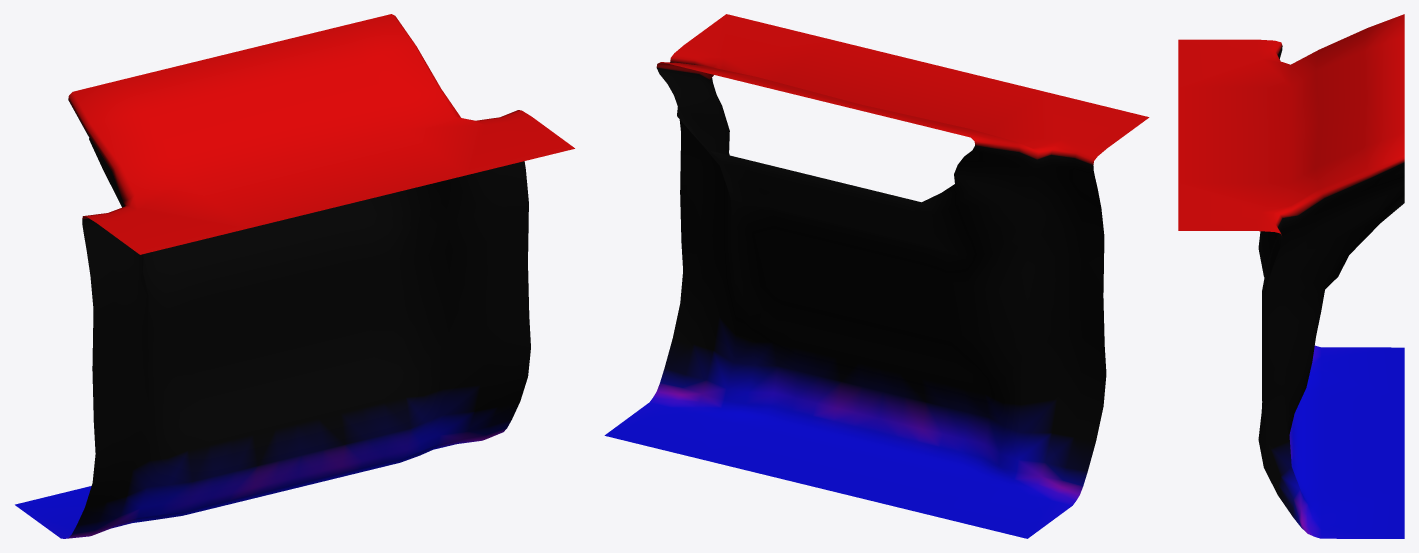
File: CrossingCliff03B 3M for Water Background.fbx
The picture shows the model from 3 angles, left to right: view 1: azimuth 30°, elevation 25°; view 2: azimuth 150°, elevation 25°; view 3: azimuth 270°, elevation 25°; orthographic projection. The views are drawn at different scales.
Parts seen in each view (by area): view 1: CrossingCliff03B 3M for Water Background; view 2: CrossingCliff03B 3M for Water Background; view 3: CrossingCliff03B 3M for Water Background.
Part boxes in pixels (left/top/right/bottom): CrossingCliff03B 3M for Water Background: left=15, top=14, right=574, bottom=538; CrossingCliff03B 3M for Water Background: left=604, top=14, right=1149, bottom=538; CrossingCliff03B 3M for Water Background: left=1178, top=14, right=1404, bottom=538.
Size of the model in its own units: 4 by 3.5 by 2.
